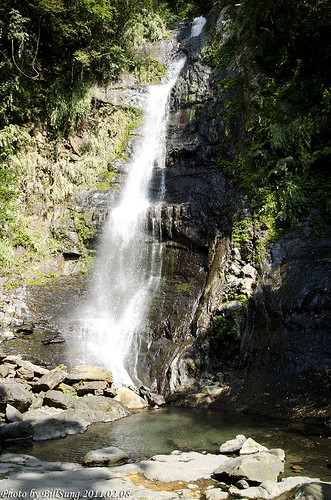wufengciWaterfall: (61, 15, 225, 400)
